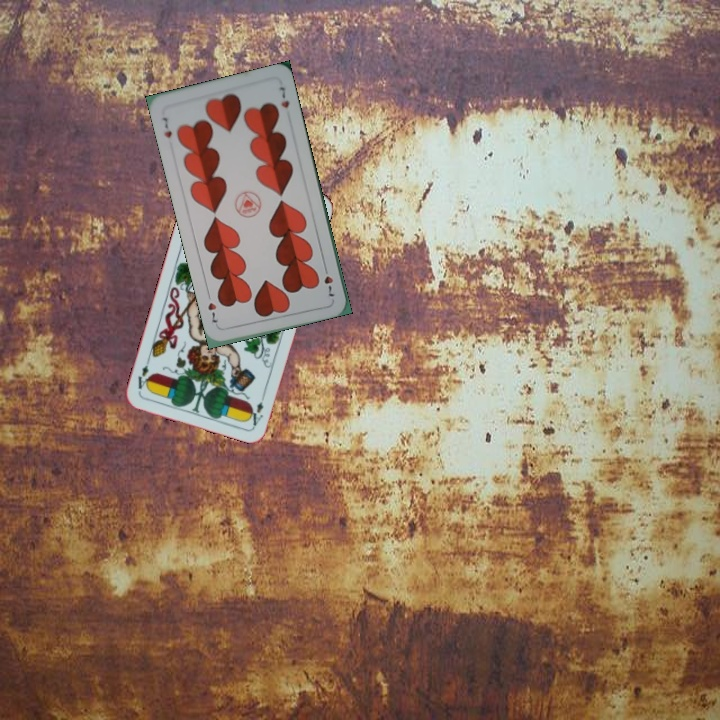EA: (246, 388, 269, 428)
H7: (320, 261, 337, 300), (158, 113, 174, 140)
